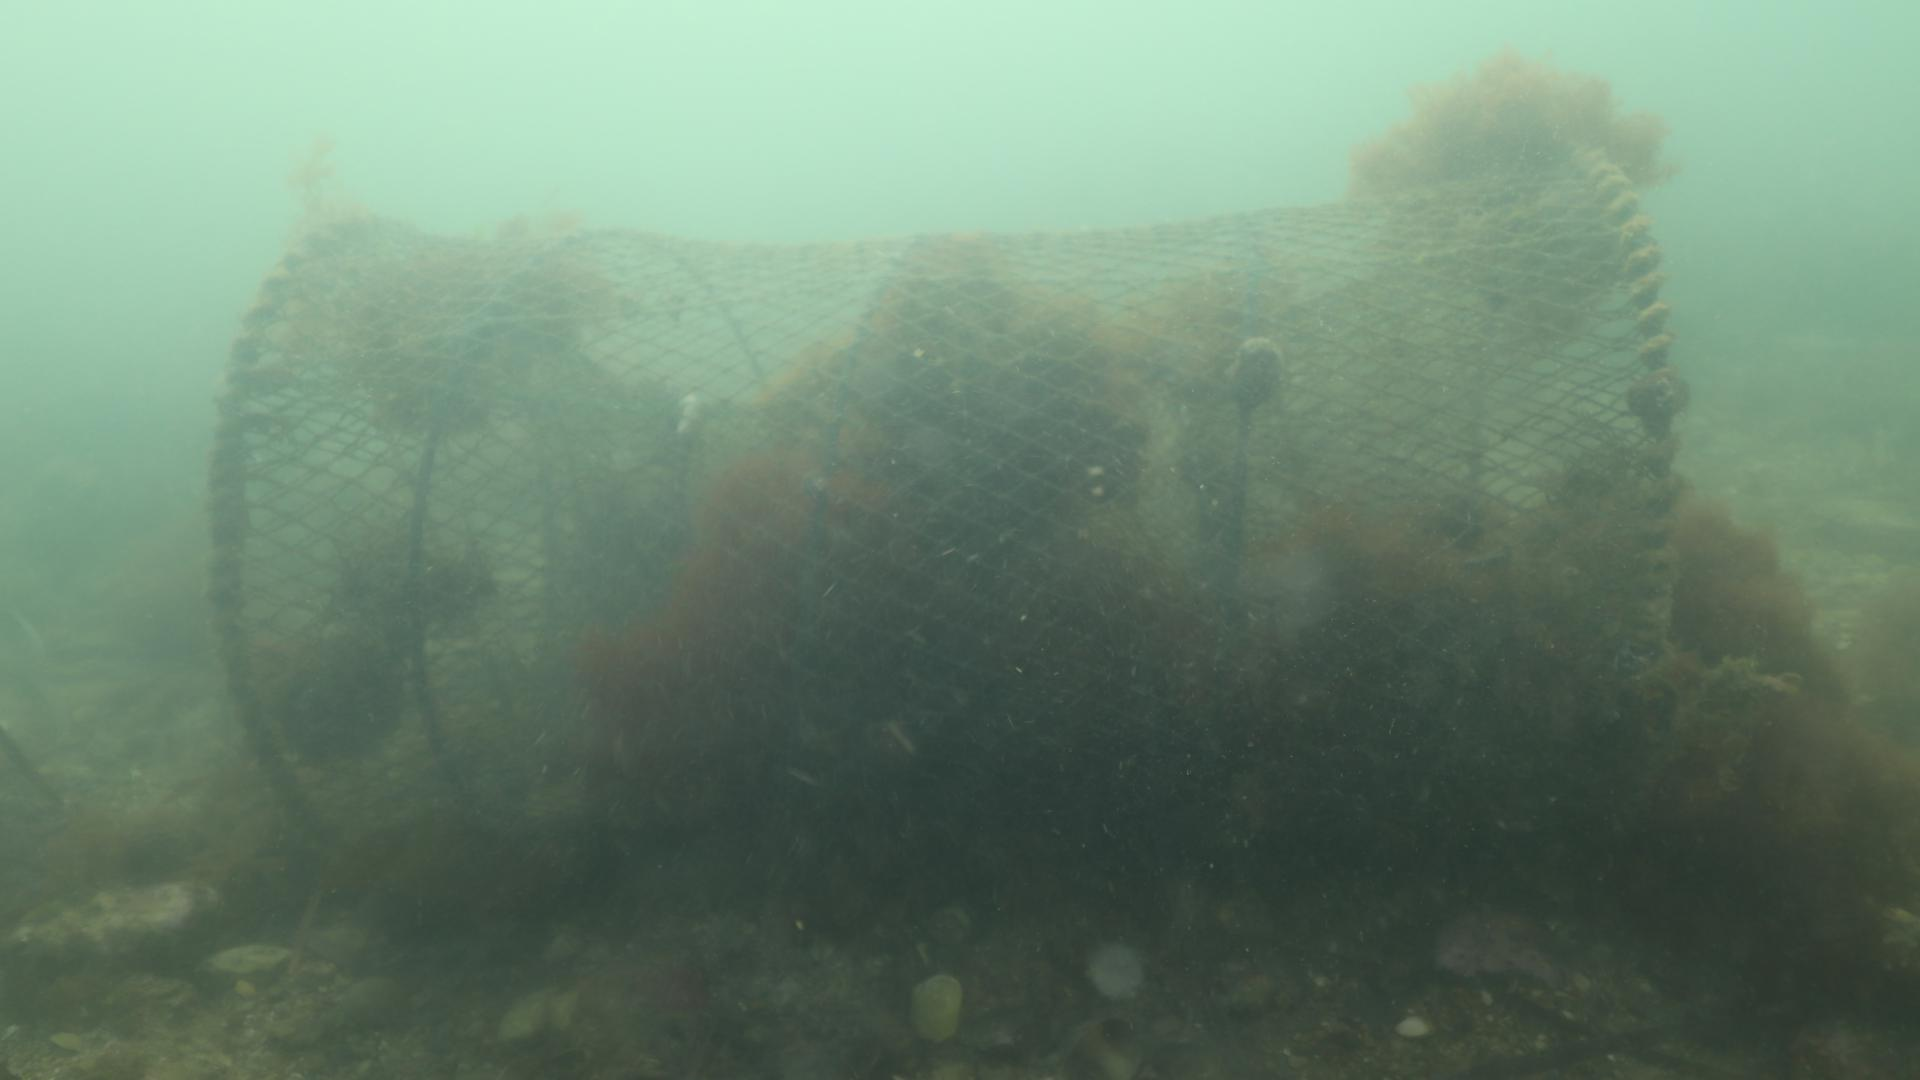spring fish trap: (200, 141, 1671, 916)
